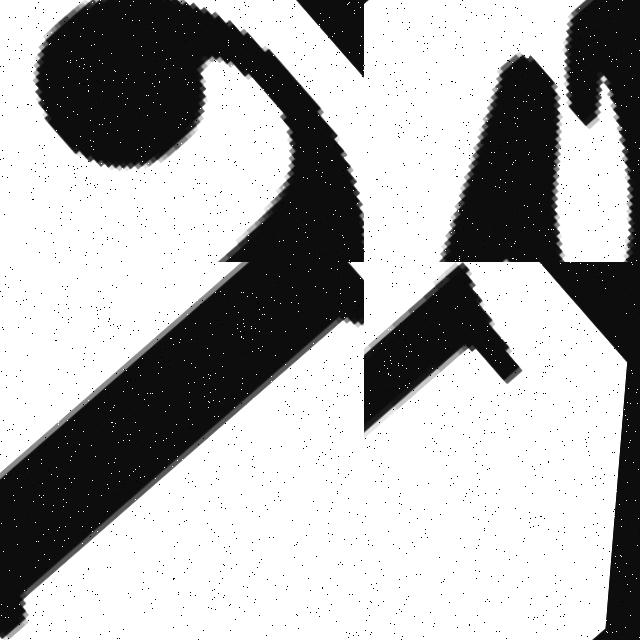9: (364, 0, 640, 262)
C: (29, 0, 364, 262)
L: (0, 262, 364, 640), (364, 262, 570, 640)
